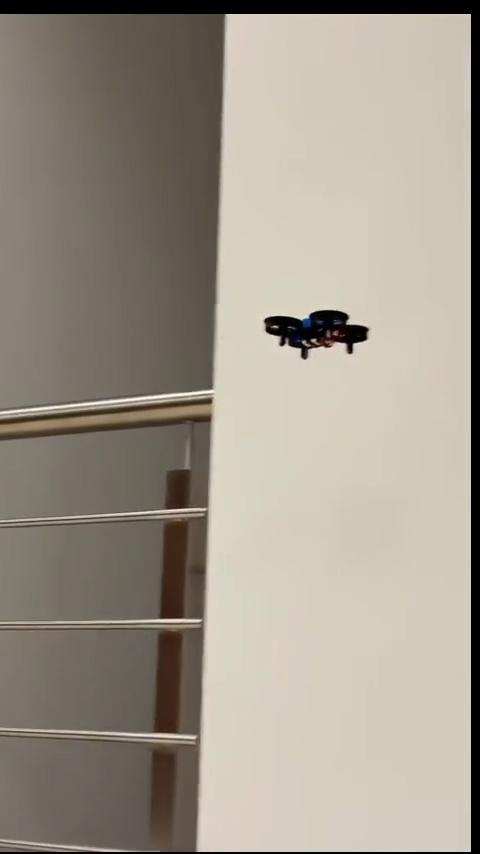drone: (267, 312, 371, 357)
